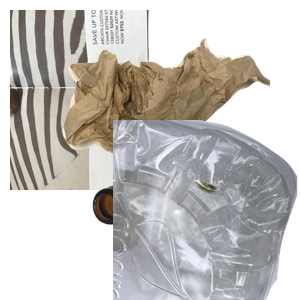glass: (90, 148, 300, 300)
paper: (10, 10, 250, 190)
plastic: (113, 120, 300, 300)
trash: (60, 36, 300, 198)
